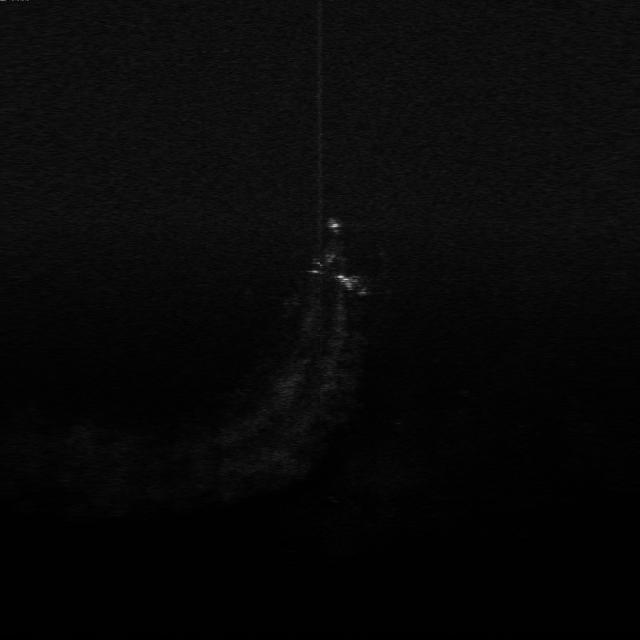rov: (324, 215, 344, 235)
